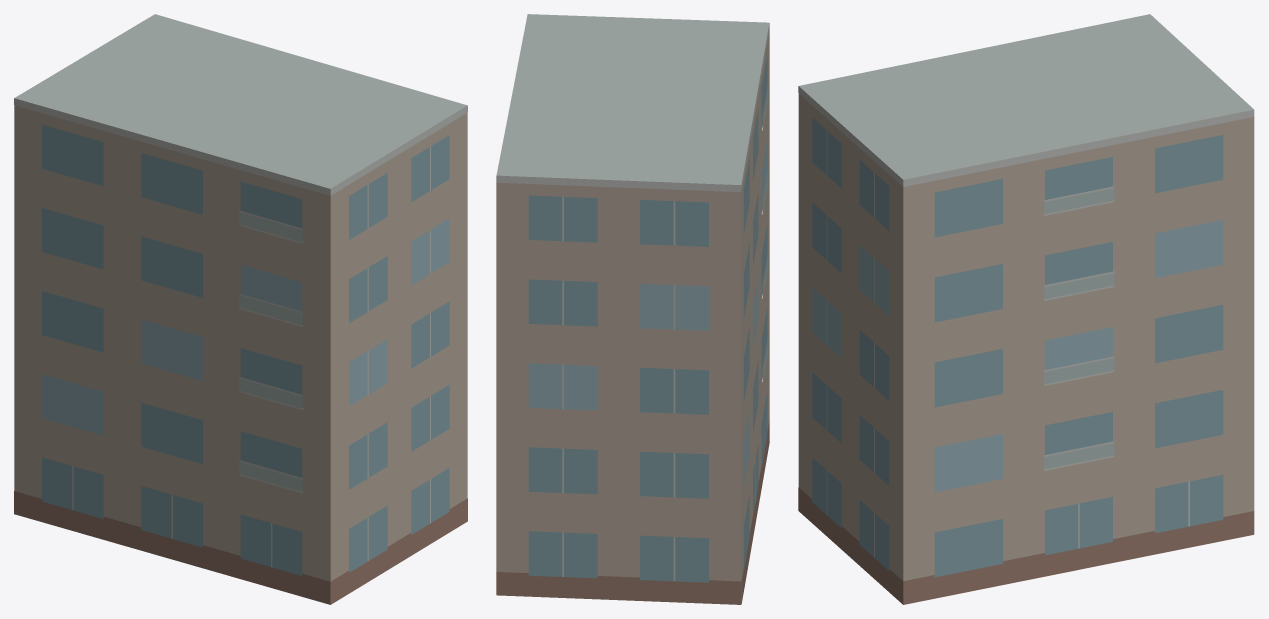
File: survey-upis-32989119.glb
The picture shows the model from 3 angles, left to right: view 1: azimuth 30°, elevation 25°; view 2: azimuth 150°, elevation 25°; view 3: azimuth 270°, elevation 25°; orthographic projection. The views are drawn at different scales.
Visible parts, largest first — view 1: survey-upis-32989119.tmp; view 2: survey-upis-32989119.tmp; view 3: survey-upis-32989119.tmp.
Part boxes in pixels (left/top/right/bottom): survey-upis-32989119.tmp: left=14, top=14, right=467, bottom=604; survey-upis-32989119.tmp: left=496, top=14, right=769, bottom=604; survey-upis-32989119.tmp: left=798, top=14, right=1254, bottom=604.
Size of the model in its own units: 12.15 by 14.5 by 14.11.
